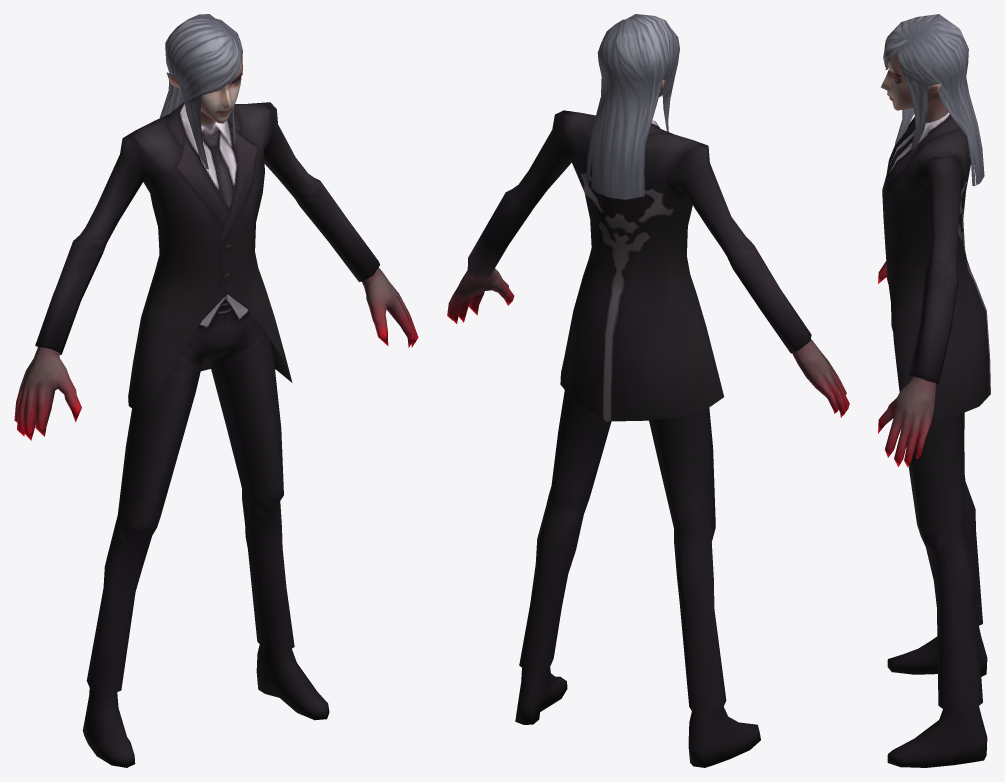
3 views of the same model, side by side, from view 1: azimuth 30°, elevation 25°; view 2: azimuth 150°, elevation 25°; view 3: azimuth 270°, elevation 25° (orthographic).
Visible parts, largest first — view 1: Dwight_Body; view 2: Dwight_Body; view 3: Dwight_Body.
Part boxes in pixels (x1,y1,x2,y2): Dwight_Body: (14,14,418,767); Dwight_Body: (447,14,849,767); Dwight_Body: (878,14,990,767).
Bounding box in the file's own units: 1.14 × 1.95 × 0.2873.
Materials: 1 (1 with a texture image).
